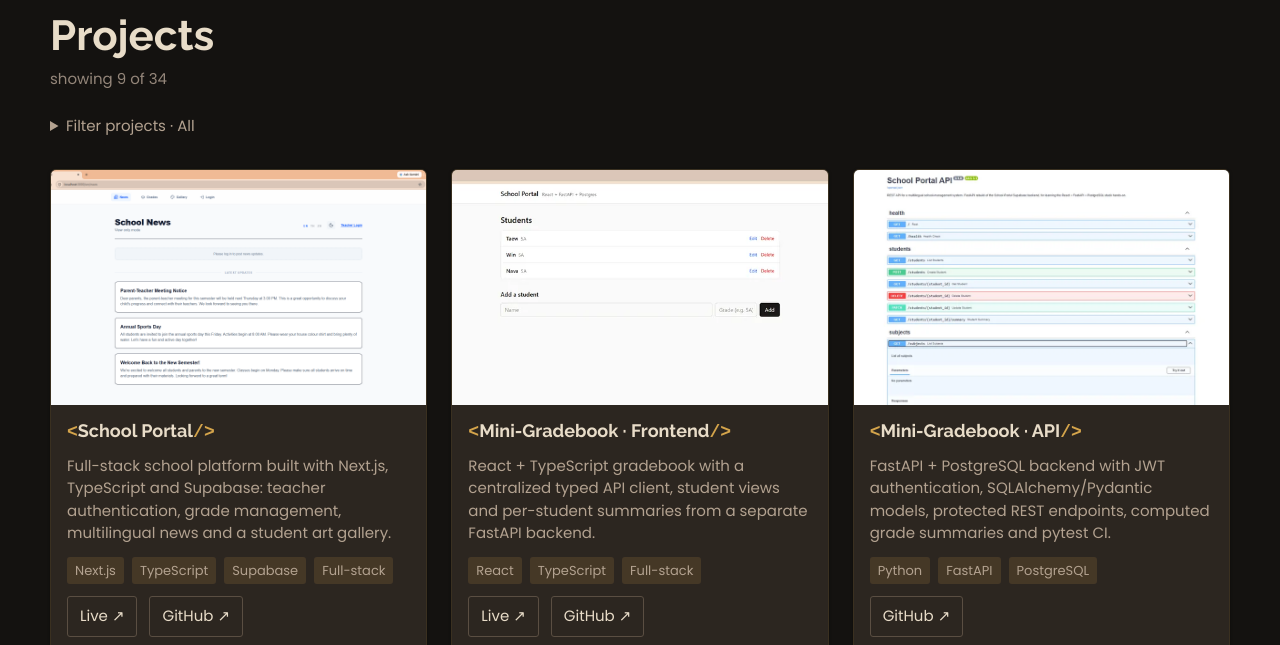
it: ProjectsBoard › narrows the list to projects carrying the chosen tag
The width and height of the screenshot is (1280, 645).
What coordinates should you click on to do the following:
click the heading "Filter projects · All"
I would click on:
 (130, 125)
Its box is [66, 115, 195, 136].
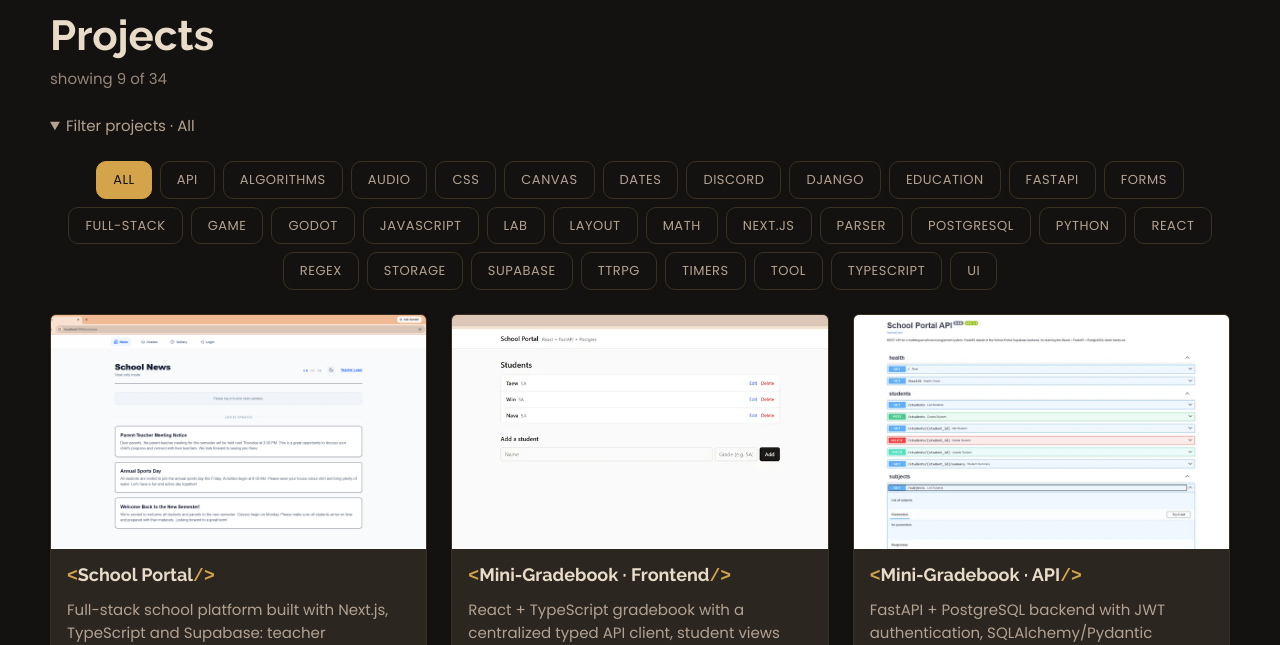
What coordinates should you click on to do the following:
click the button "Godot"
I would click on:
 (313, 226)
Its box is [272, 207, 355, 244].
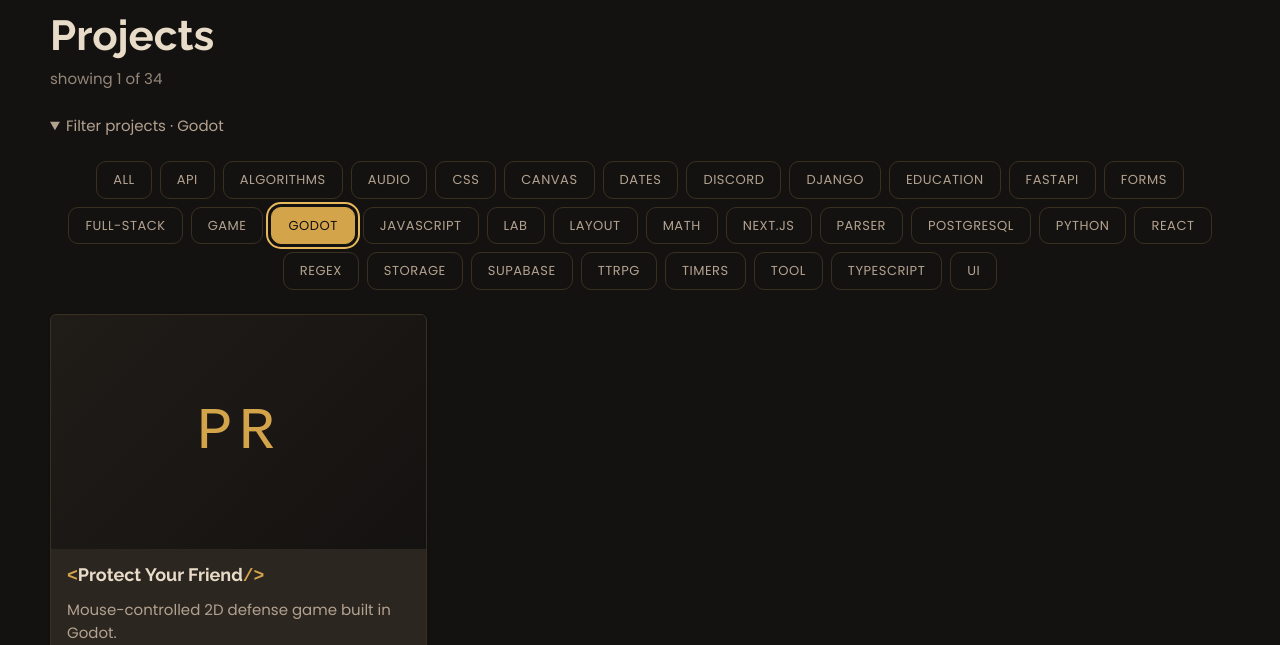
Result: the heading "<Protect Your Friend/>" is shown at [67, 564, 264, 586]
